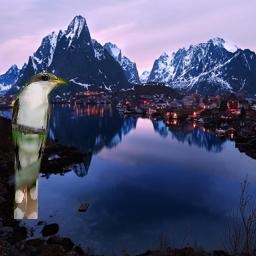Cuckoo: (10, 71, 70, 219)
